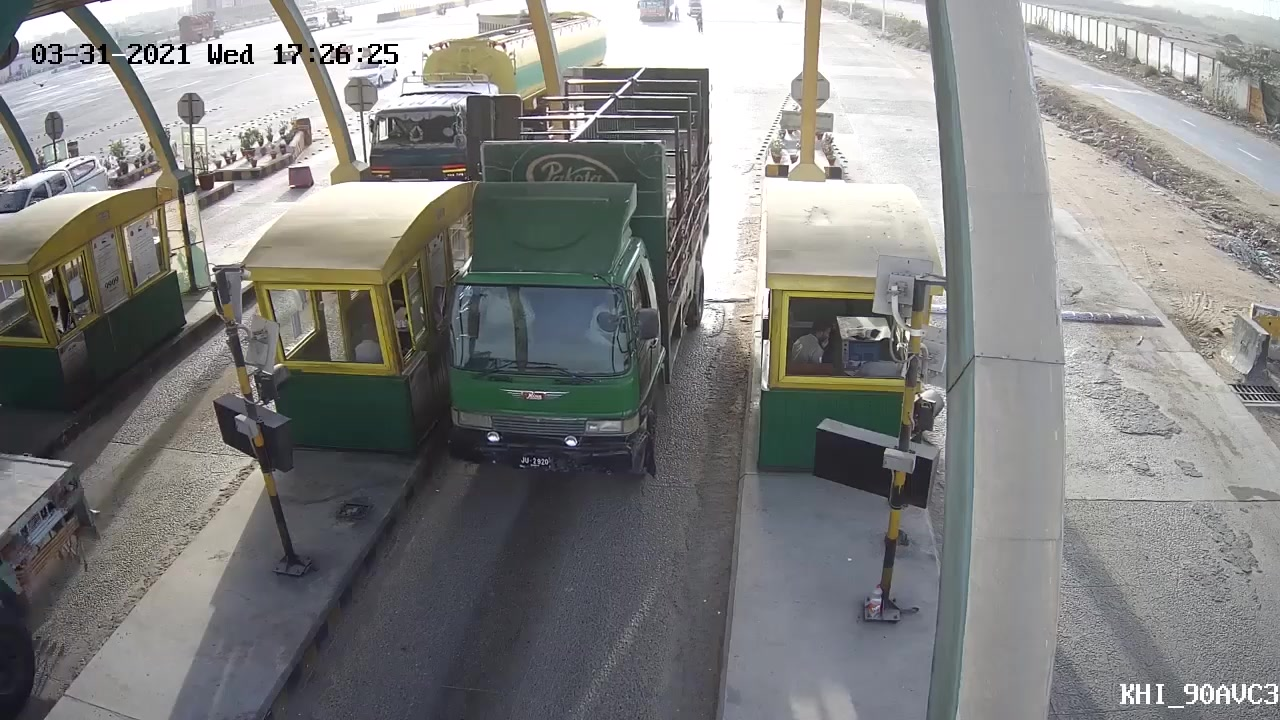F5: (430, 62, 712, 486)
